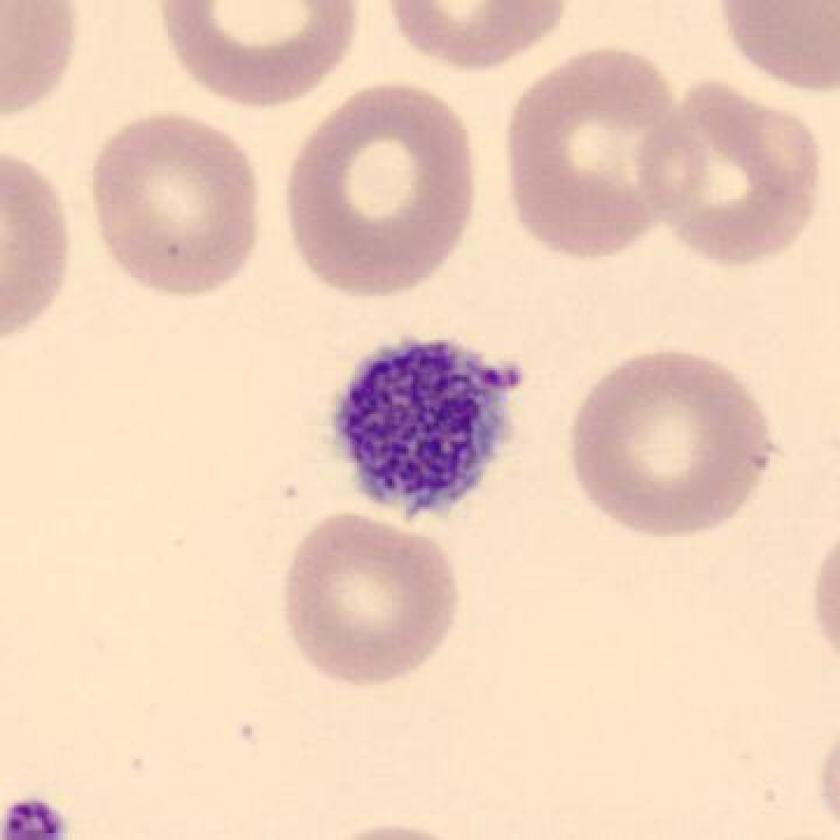platelets: (321, 323, 535, 529)
